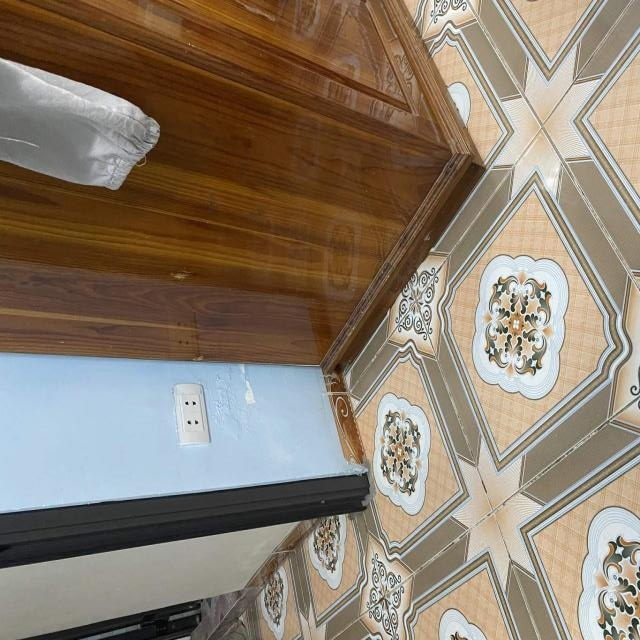outlet: (173, 383, 210, 445)
